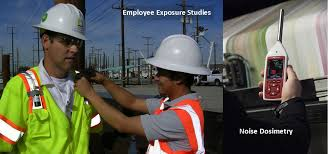Person_wearing_helmet: (33, 0, 104, 52), (139, 26, 213, 72)
